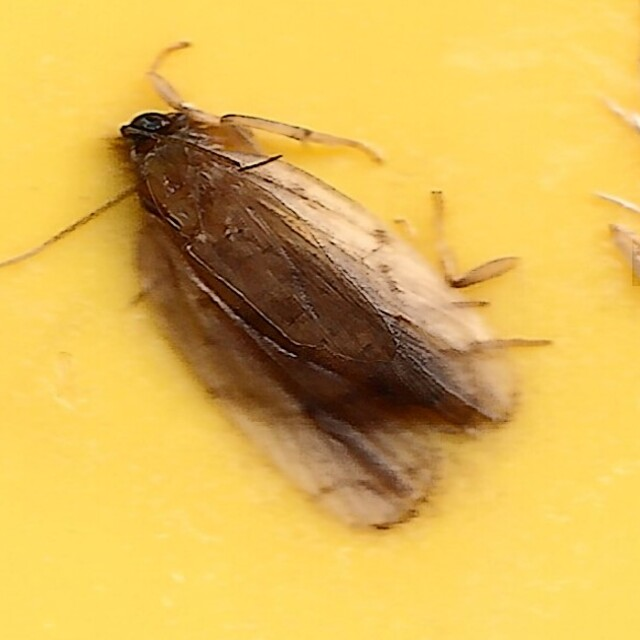Lepidoptera: (110, 101, 530, 539)
